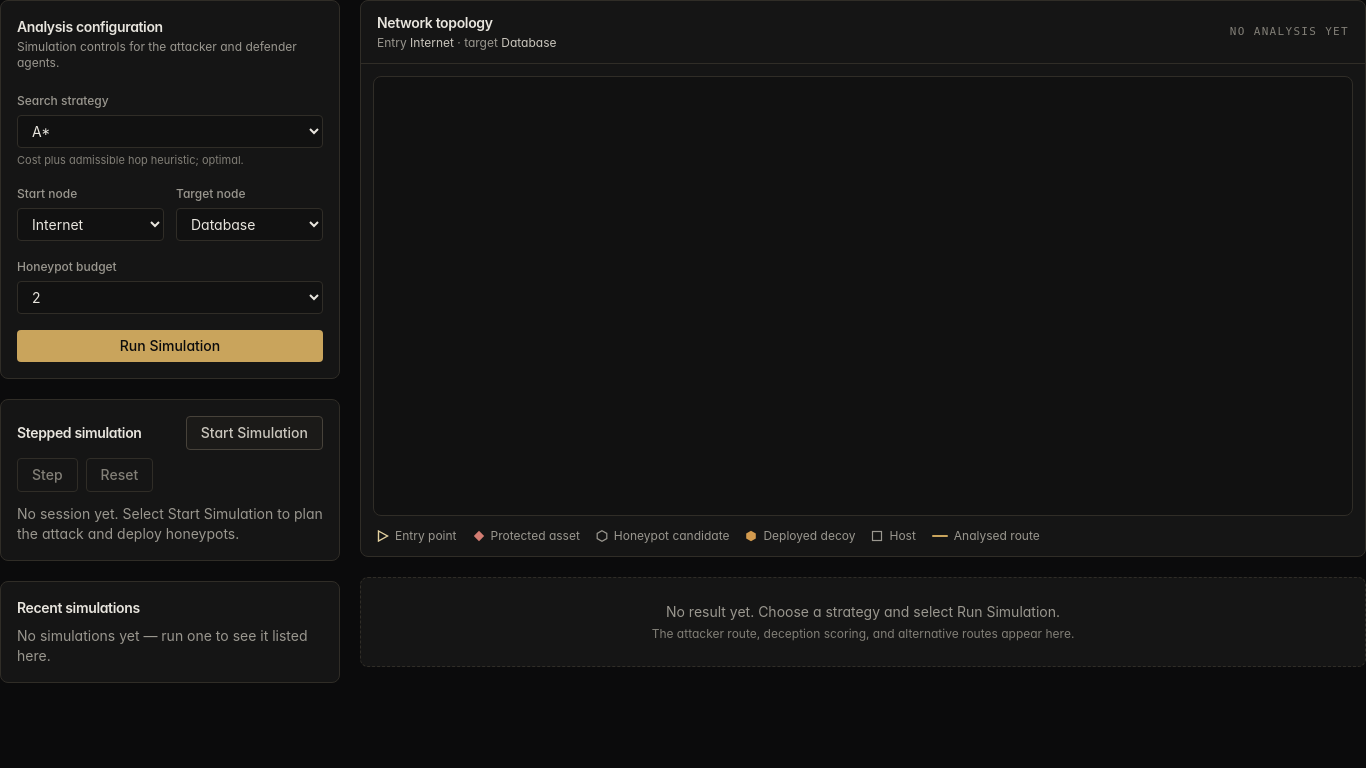
SimulationPanel › shows an error state when the simulation request fails
The width and height of the screenshot is (1366, 768).
Click the button "Run Simulation".
click(170, 346)  # box [17,330,323,362]
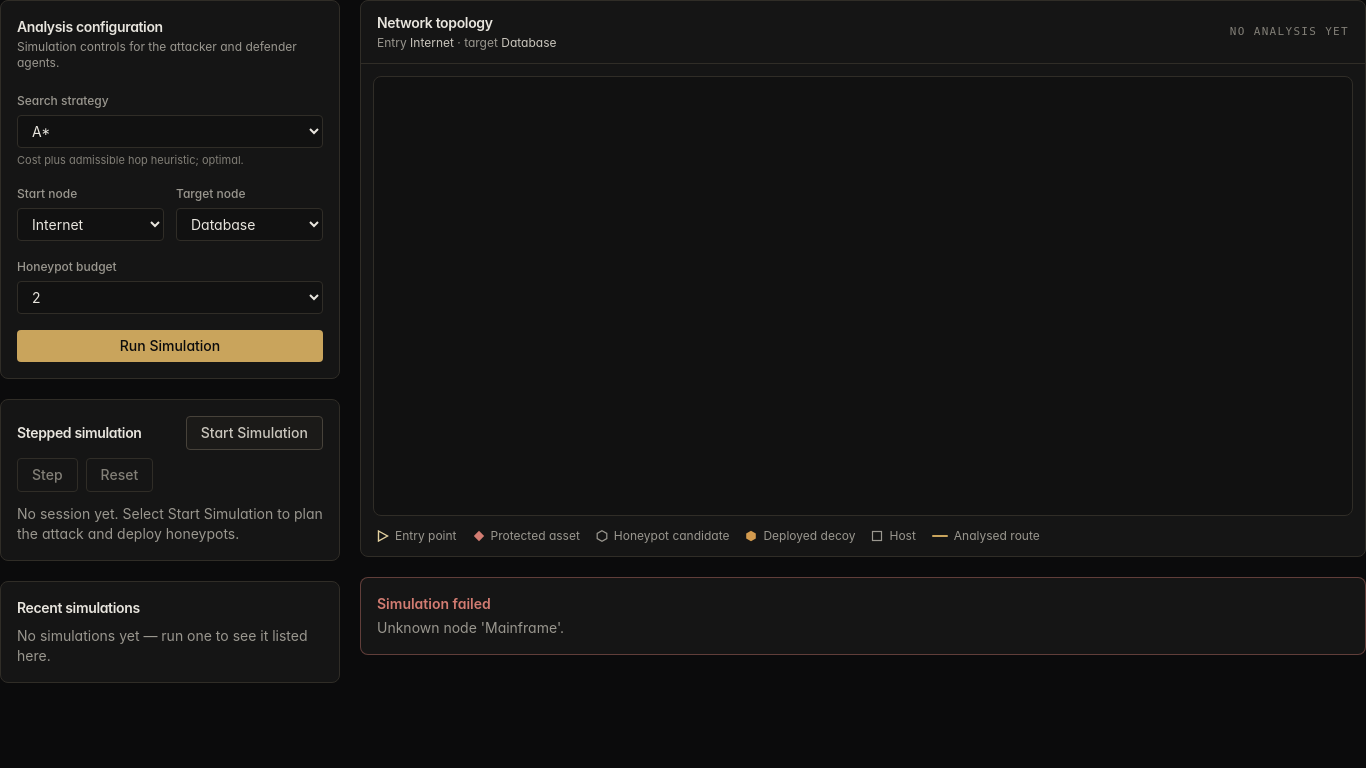
expect the text "Simulation failed" is shown: met, box [377,595,491,612]
expect the text "Unknown node 'Mainframe'." is shown: met, box [377,619,564,636]
